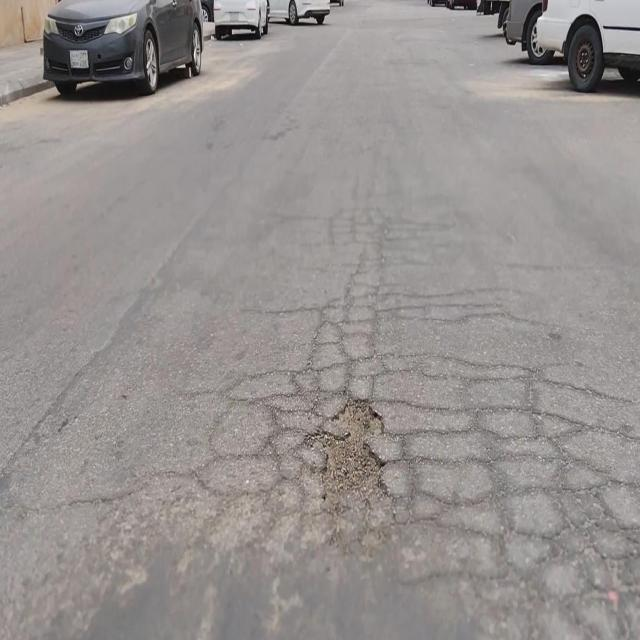Potholes: (303, 397, 392, 514)
